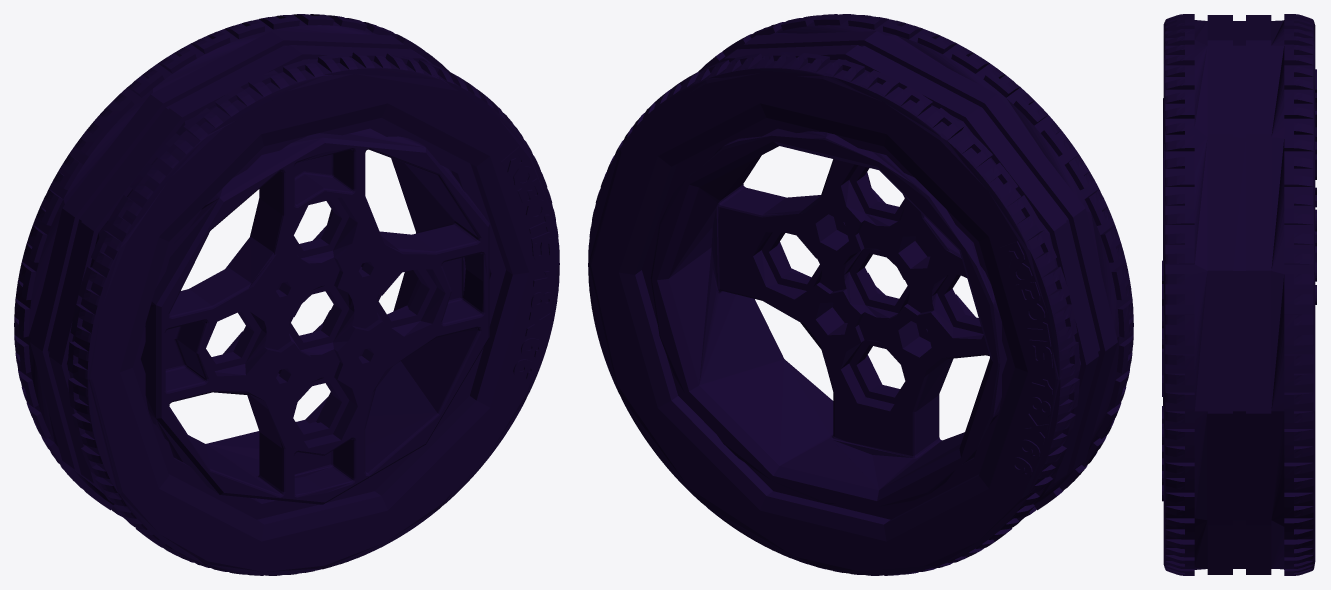
File: left-tire.dae
3 views of the same model, side by side, from view 1: azimuth 30°, elevation 25°; view 2: azimuth 150°, elevation 25°; view 3: azimuth 270°, elevation 25° (orthographic).
Visible parts, largest first — view 1: left_tire; view 2: left_tire; view 3: left_tire.
Boxes of the visible parts, box(x1,y1,x2,y2) form: left_tire: box(14, 14, 559, 575); left_tire: box(588, 14, 1133, 575); left_tire: box(1162, 14, 1316, 575).
Bounding box in the file's own units: 0.132 × 0.0364 × 0.132.
